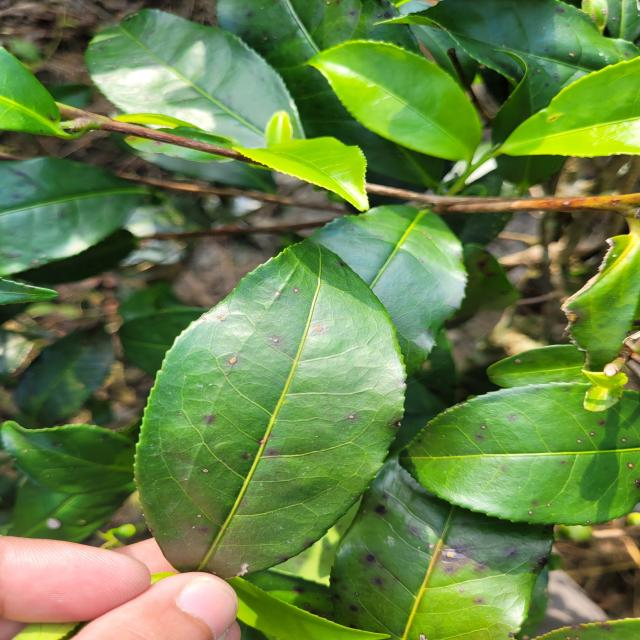Category D(7+ days, Not for Tea): (115, 226, 428, 588)
